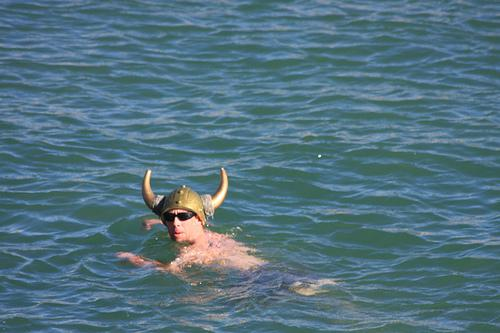swimmer: (128, 190, 322, 295)
